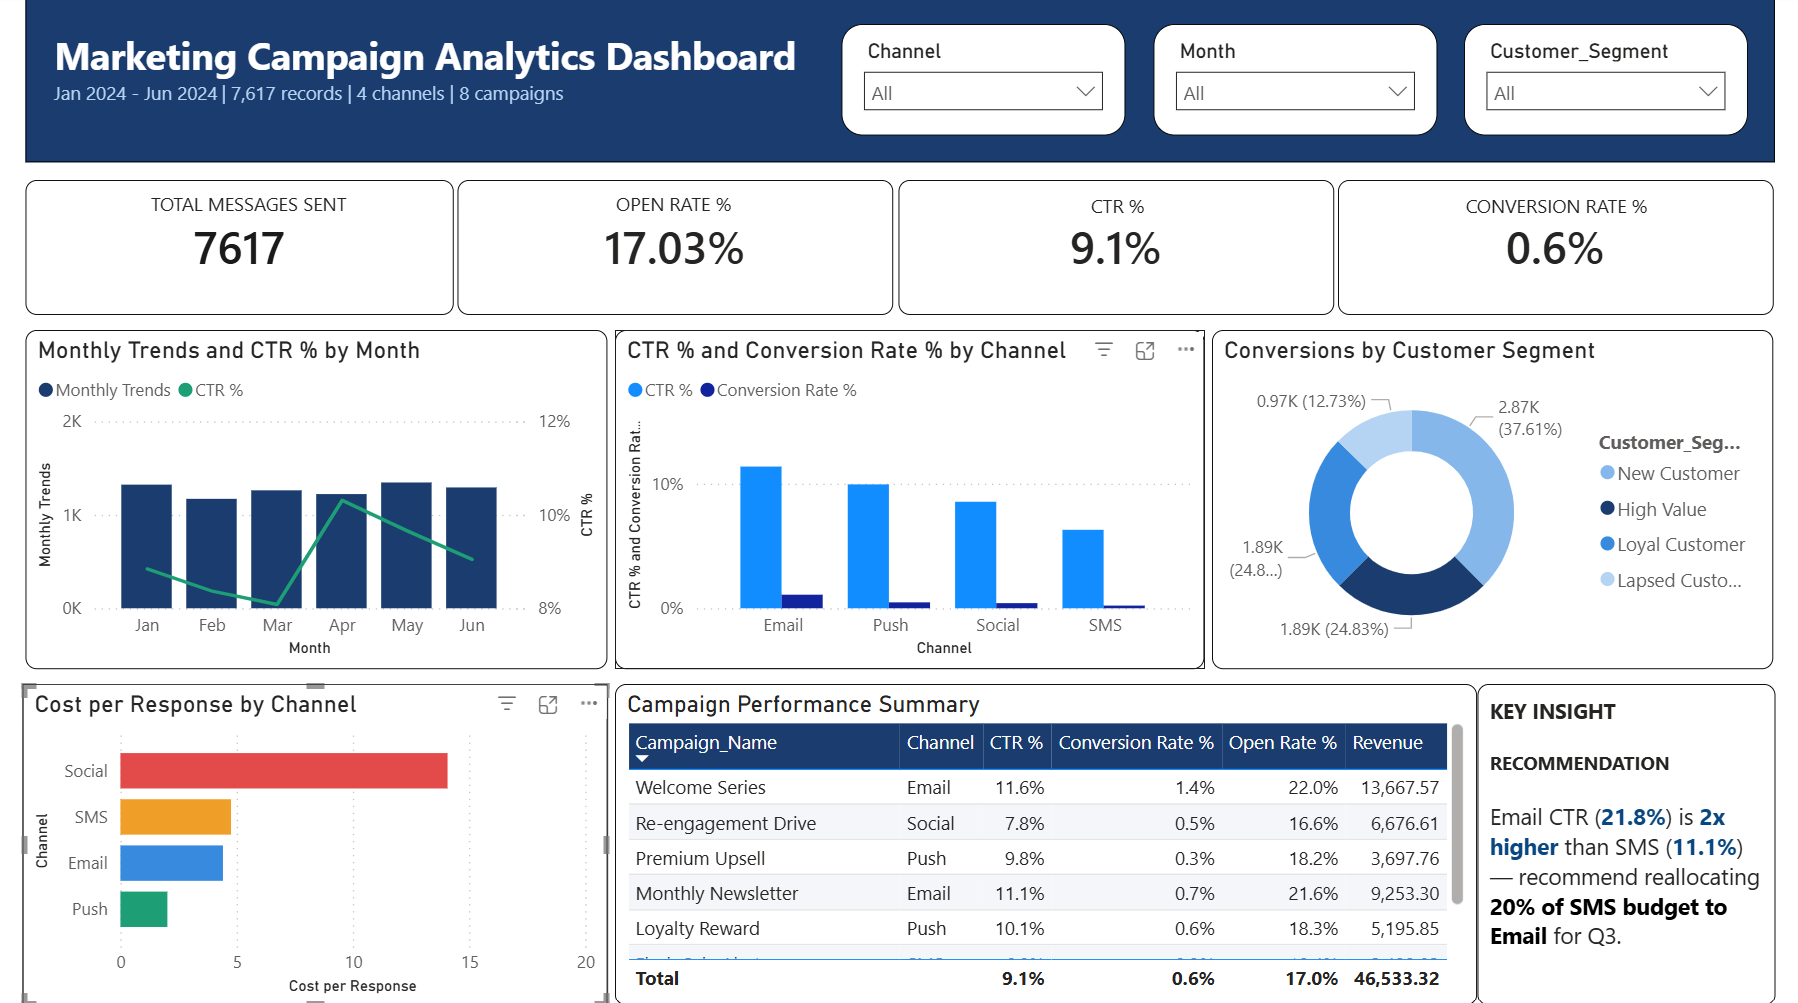

What the dashboard file says about the page in this screenshot:
{"tool":"powerbi","page":{"name":"Page 1","canvas":[1280,720],"ordinal":0},"visuals":[{"type":"card","title":"TOTAL MESSAGES SENT","fields":{"Values":["CountNonNull(campaign_data.Record_ID)"]},"box":[18.5,131.9,304.6,96.3],"z":0},{"type":"card","fields":{"Values":["campaign_data.Open Rate %"]},"box":[325.7,131.9,309.9,96.3],"z":1000},{"type":"card","fields":{"Values":["campaign_data.CTR %"]},"box":[639.6,131.9,309.9,96.3],"z":2000},{"type":"clusteredColumnChart","title":"CTR % and Conversion Rate % by Channel","fields":{"Y":["campaign_data.CTR %","campaign_data.Conversion Rate %"],"Category":["campaign_data.Channel"]},"box":[437.8,238.7,419.3,241.3],"z":3000},{"type":"lineClusteredColumnComboChart","title":"Monthly Trends and CTR % by Month","fields":{"Category":["campaign_data.Month"],"Y":["CountNonNull(campaign_data.Messages_Sent)"],"Y2":["campaign_data.CTR %"]},"box":[18.5,238.7,414.1,241.3],"z":4000},{"type":"tableEx","title":"Campaign Performance Summary","fields":{"Values":["campaign_data.Campaign_Name","campaign_data.Channel","campaign_data.CTR %","campaign_data.Conversion Rate %","campaign_data.Open Rate %","Sum(campaign_data.Revenue_INR)"]},"box":[437.8,490.6,613.2,229.5],"z":5000},{"type":"donutChart","title":"Conversions by Customer Segment","fields":{"Category":["campaign_data.Customer_Segment"],"Y":["CountNonNull(campaign_data.Converted)"]},"box":[862.4,238.7,399.6,241.3],"z":6000},{"type":"textbox","box":[1051,490.6,212.3,229.5],"z":7000},{"type":"card","fields":{"Values":["campaign_data.Conversion Rate %"]},"box":[952.1,131.9,309.9,96.3],"z":8000},{"type":"textbox","box":[18.5,1.3,1244.8,118.7],"z":9000},{"type":"slicer","fields":{"Values":["campaign_data.Channel"]},"box":[599.1,21.7,201.8,79.2],"z":10000},{"type":"slicer","fields":{"Values":["campaign_data.Customer_Segment"]},"box":[1041.5,21.7,201.8,79.2],"z":11000},{"type":"slicer","fields":{"Values":["campaign_data.Month"]},"box":[821.1,21.7,201.8,79.2],"z":12000},{"type":"textbox","box":[80.4,134.5,193.8,29],"z":13000},{"type":"textbox","box":[425.9,134.5,106.8,34.3],"z":14000},{"type":"textbox","box":[727.9,135.8,134.5,27.7],"z":15000},{"type":"textbox","box":[1003.5,135.8,208.4,27.7],"z":16000},{"type":"clusteredBarChart","fields":{"Category":["campaign_data.Channel"],"Y":["campaign_data.Cost per Response"]},"box":[15.8,490.6,416.7,229.5],"z":17000}]}

Visuals, with their boxes in screenshot pixels (x1, y1, x2, y2), scaled from the page's 1280x720 canvas onto the 1798x1003 screenshot:
"TOTAL MESSAGES SENT" card: 26,184,454,318
card - campaign_data.Open Rate %: 458,184,893,318
card - campaign_data.CTR %: 898,184,1334,318
"CTR % and Conversion Rate % by Channel" clusteredColumnChart: 615,333,1204,669
"Monthly Trends and CTR % by Month" lineClusteredColumnComboChart: 26,333,608,669
"Campaign Performance Summary" tableEx: 615,683,1476,1002
"Conversions by Customer Segment" donutChart: 1211,333,1773,669
textbox: 1476,683,1775,1002
card - campaign_data.Conversion Rate %: 1337,184,1773,318
textbox: 26,2,1775,167
slicer - campaign_data.Channel: 842,30,1125,141
slicer - campaign_data.Customer_Segment: 1463,30,1746,141
slicer - campaign_data.Month: 1153,30,1437,141
textbox: 113,187,385,228
textbox: 598,187,748,235
textbox: 1022,189,1211,228
textbox: 1410,189,1702,228
clusteredBarChart - campaign_data.Channel x campaign_data.Cost per Response: 22,683,608,1002
